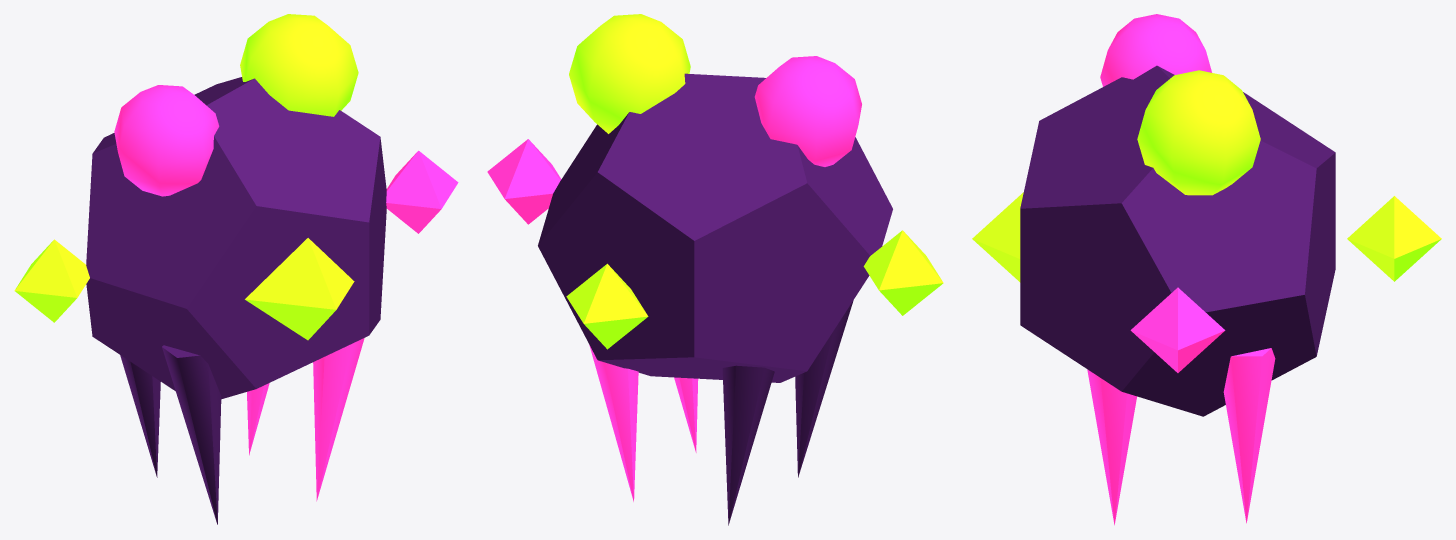
File: enemy_spore.glb
The picture shows the model from 3 angles, left to right: view 1: azimuth 30°, elevation 25°; view 2: azimuth 150°, elevation 25°; view 3: azimuth 270°, elevation 25°; orthographic projection. The views are drawn at different scales.
Visible parts, largest first — view 1: sac_body, crown_pod_1, crown_pod_2, bio_core, tentacle_0, tentacle_1, orbit_pod_1, orbit_pod_2, tentacle_2, tentacle_3; view 2: sac_body, crown_pod_2, crown_pod_1, tentacle_2, orbit_pod_3, orbit_pod_1, orbit_pod_2, tentacle_3, tentacle_0, tentacle_1; view 3: sac_body, crown_pod_2, crown_pod_1, tentacle_3, orbit_pod_2, orbit_pod_3, tentacle_1, bio_core.
Boxes of the visible parts, x1,y1,x2,y2 form: sac_body: (86,77,386,399); crown_pod_1: (114,85,219,196); crown_pod_2: (240,14,358,116); bio_core: (245,238,354,340); tentacle_0: (162,345,221,524); tentacle_1: (313,338,364,501); orbit_pod_1: (14,239,89,322); orbit_pod_2: (386,150,458,233); tentacle_2: (120,355,160,477); tentacle_3: (247,383,269,455); sac_body: (538,73,892,382); crown_pod_2: (569,14,690,133); crown_pod_1: (754,56,861,166); tentacle_2: (722,365,774,525); orbit_pod_3: (566,263,648,349); orbit_pod_1: (863,230,943,315); orbit_pod_2: (487,139,561,224); tentacle_3: (589,345,638,501); tentacle_0: (795,300,853,477); tentacle_1: (674,377,698,452); sac_body: (1020,65,1335,416); crown_pod_2: (1137,70,1260,195); crown_pod_1: (1100,14,1211,86); tentacle_3: (1223,348,1275,523); orbit_pod_2: (1130,287,1225,372); orbit_pod_3: (1347,196,1441,281); tentacle_1: (1087,369,1136,525); bio_core: (972,192,1023,282).
Size of the model in its own units: 2 by 1.93 by 1.78.
